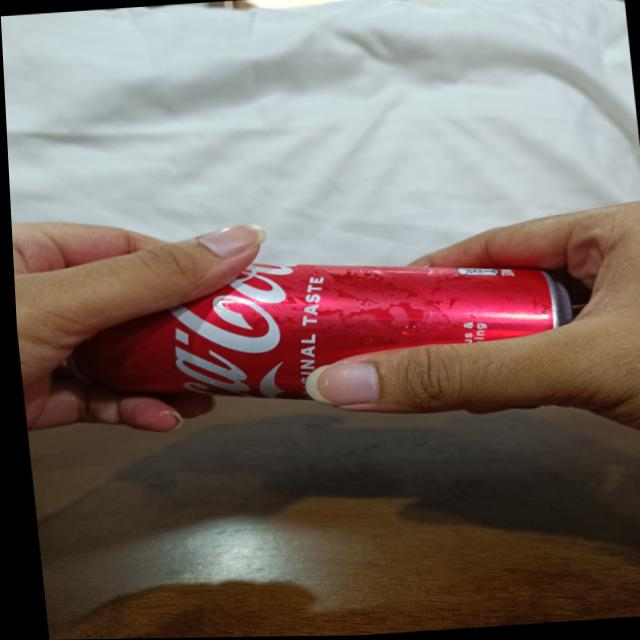coke: (78, 241, 577, 420)
